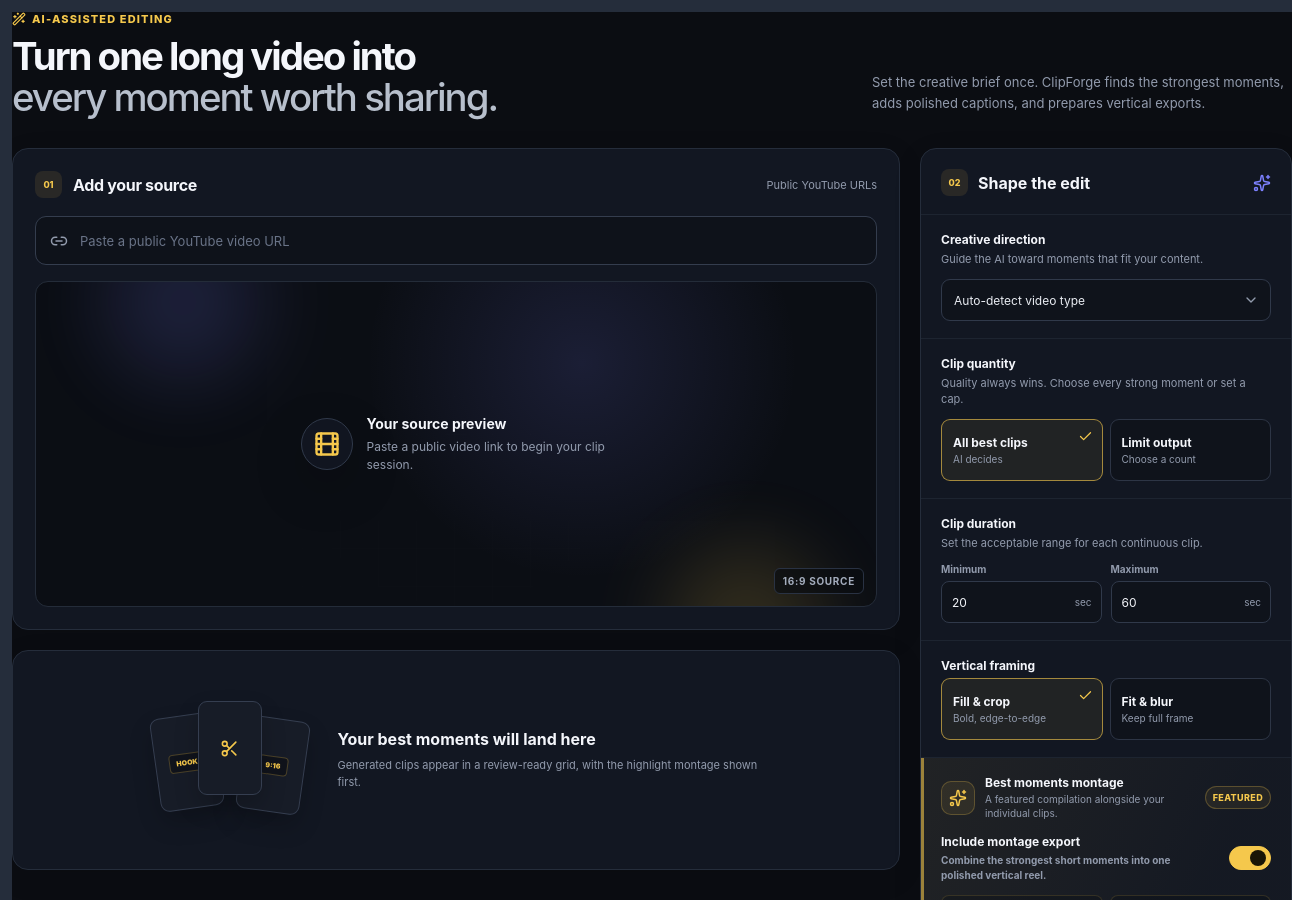
Test case: CreatePage › defaults to all AI-selected clips and exposes a bounded limit
Expected: the radio button labelled "All best clips AI decides" is checked, [941,419,1102,481]
Click the text "Limit output": (1157, 443) [1122,435,1192,450]
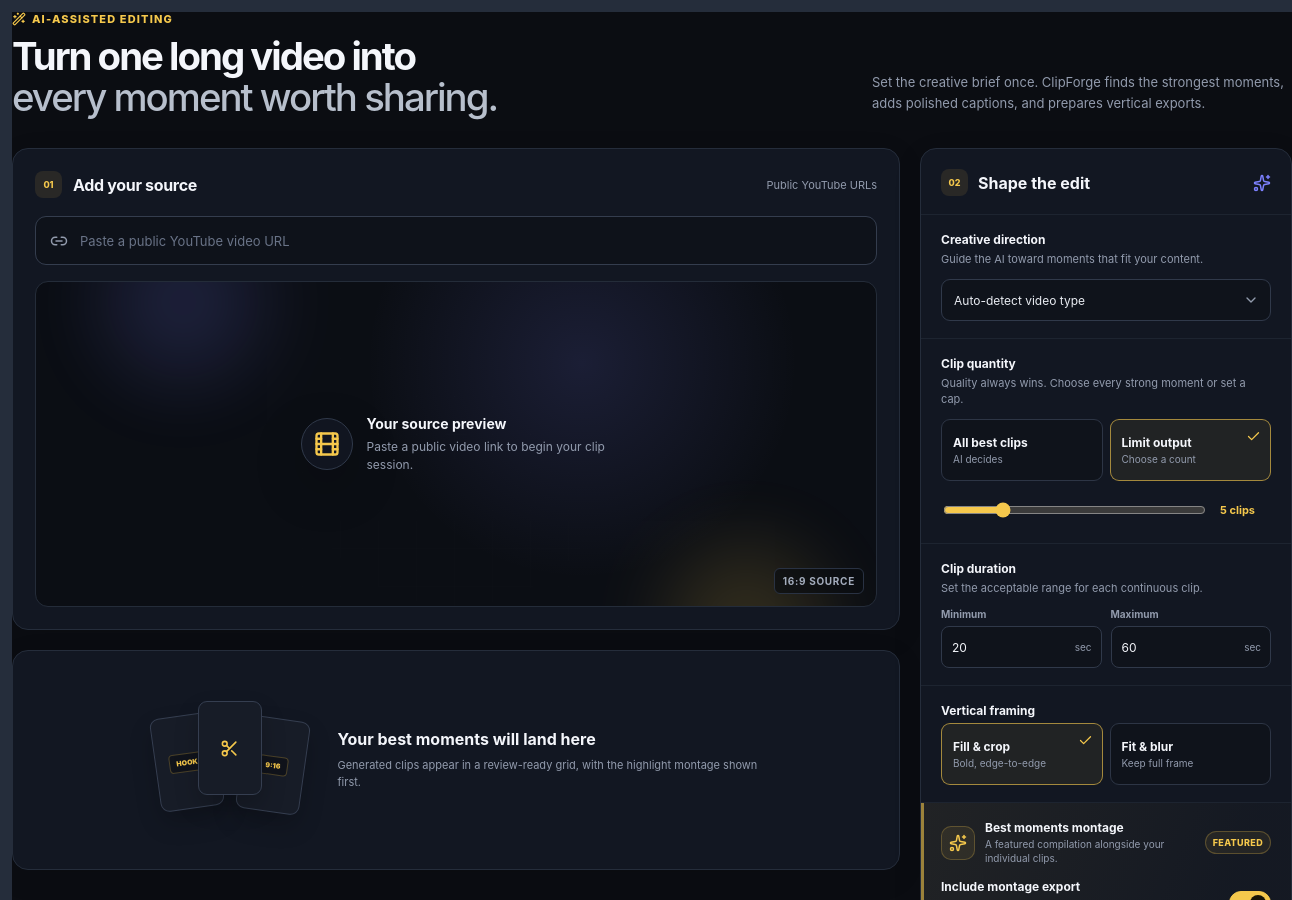
Expected: the radio button labelled "Limit output Choose a count" is checked, [1110,419,1271,481]
